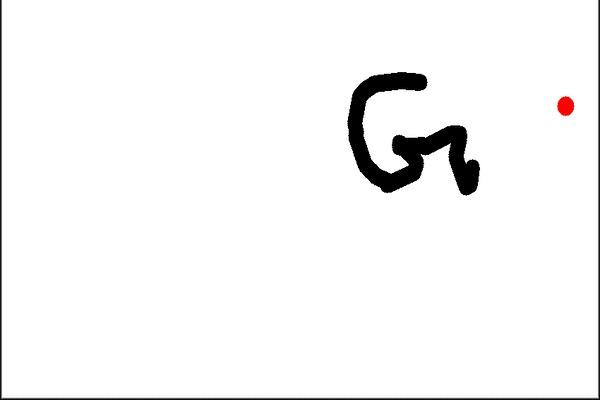G: (341, 65, 486, 199)
